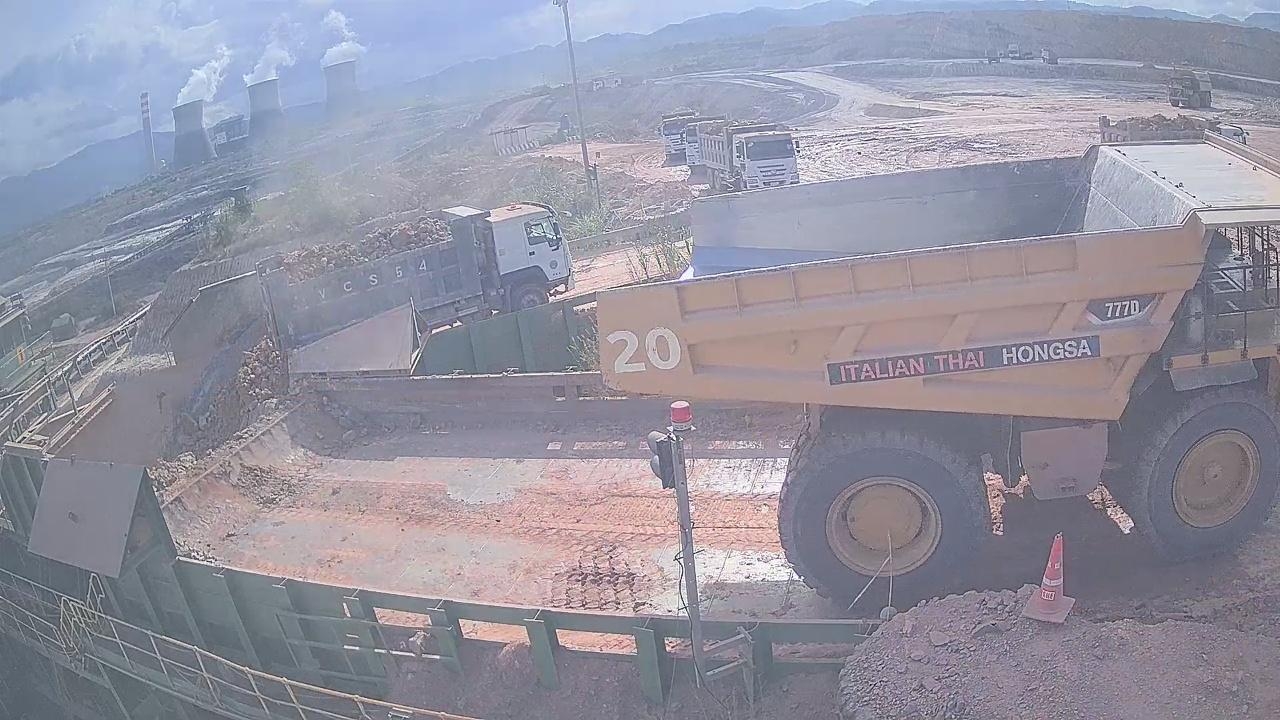company: (808, 332, 1133, 383)
empty_load: (688, 156, 1189, 264)
mining_truck: (596, 137, 1280, 618)
tail_number: (606, 319, 691, 381)
truck_size: (1082, 287, 1170, 324)
